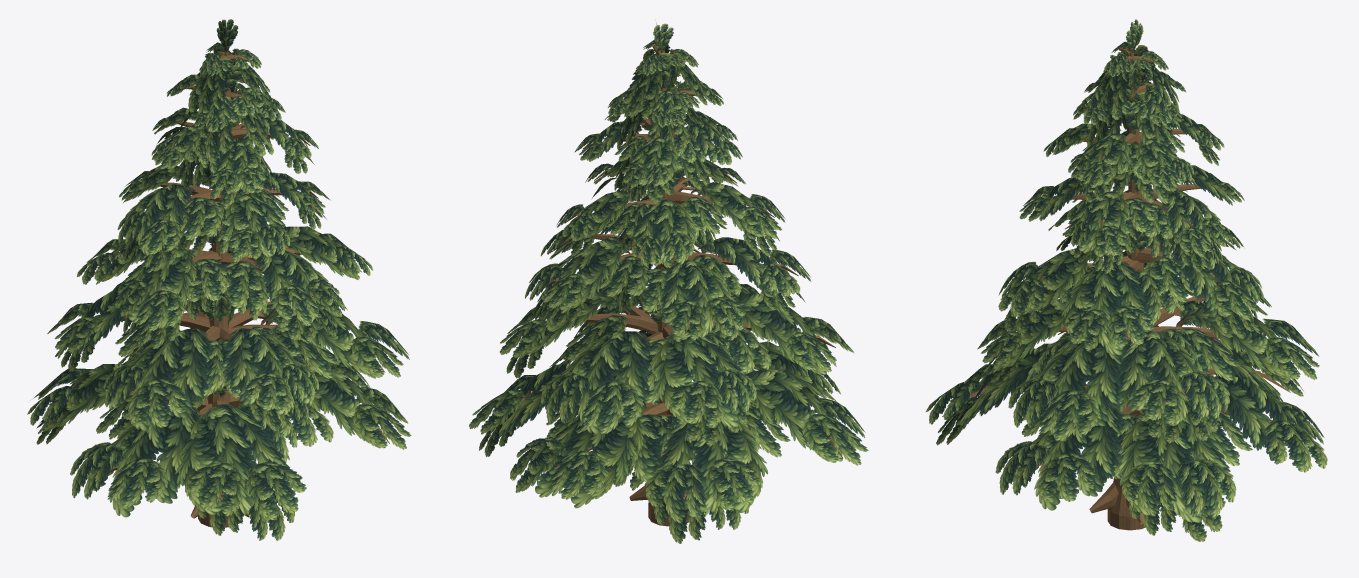
File: fir_soft_v5.glb
3 renders of one model, left to right at view 1: azimuth 30°, elevation 25°; view 2: azimuth 150°, elevation 25°; view 3: azimuth 270°, elevation 25°, orthographic.
Visible parts, largest first — view 1: fir_soft_v5; view 2: fir_soft_v5; view 3: fir_soft_v5.
Boxes of the visible parts, x1,y1,x2,y2 form: fir_soft_v5: [27, 19, 411, 540]; fir_soft_v5: [469, 22, 868, 543]; fir_soft_v5: [926, 19, 1327, 541].
Bounding box in the file's own units: 4.28 × 5.63 × 4.37.
Materials: 4 (4 with a texture image).
